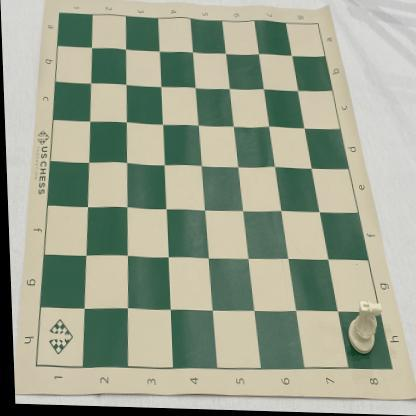white-knight: (344, 300, 382, 356)
